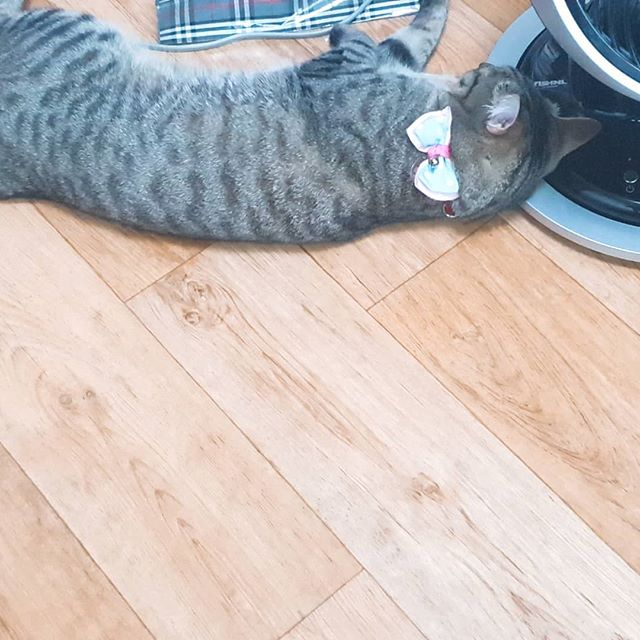cat: (443, 53, 609, 213)
